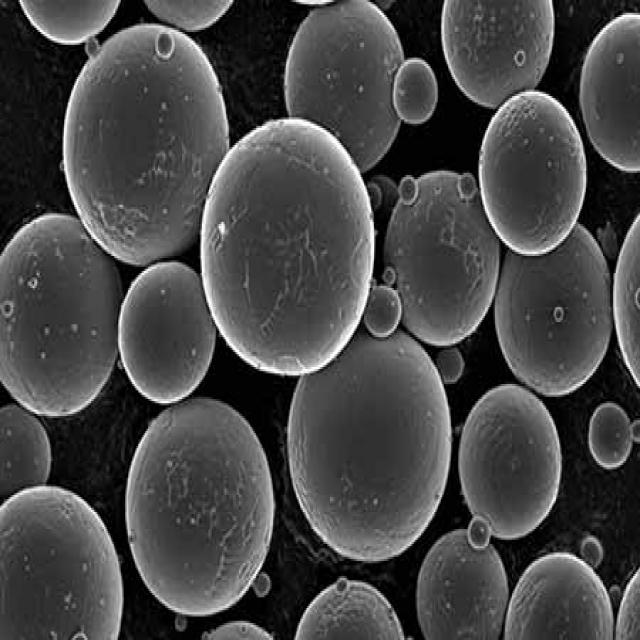cells: (203, 118, 374, 374), (62, 23, 232, 265), (290, 322, 454, 562), (125, 393, 278, 617), (0, 213, 122, 415), (286, 0, 407, 173), (387, 168, 503, 346), (494, 229, 614, 396), (0, 482, 122, 637), (479, 87, 589, 253), (460, 384, 563, 541), (120, 267, 217, 405), (439, 0, 558, 110), (417, 525, 508, 640), (502, 551, 615, 640), (579, 13, 640, 174), (296, 580, 405, 640), (16, 0, 129, 47), (0, 401, 52, 498), (587, 401, 632, 472), (394, 56, 440, 124), (366, 288, 402, 334), (439, 348, 463, 388), (578, 536, 605, 568), (467, 517, 492, 550), (155, 27, 174, 59), (399, 178, 419, 208), (460, 175, 476, 200), (254, 572, 268, 600), (85, 36, 102, 59), (336, 573, 350, 596), (516, 49, 527, 70)
